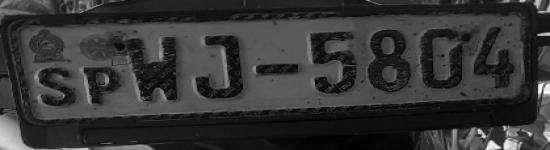-: (254, 60, 302, 80)
0: (414, 22, 468, 94)
4: (468, 20, 520, 90)
5: (304, 26, 362, 100)
8: (365, 20, 413, 97)
J: (189, 31, 252, 104)
P: (78, 63, 123, 107)
S: (30, 64, 80, 111)
W: (123, 32, 187, 106)
